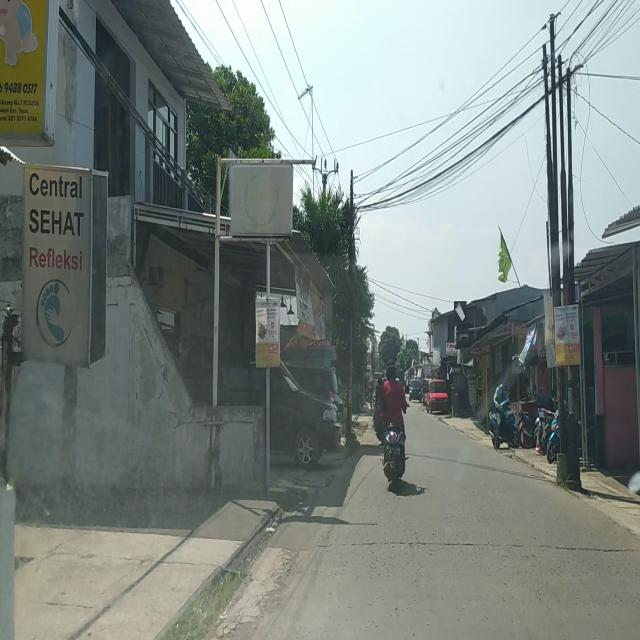Sewer Cover: (313, 540, 640, 555)
